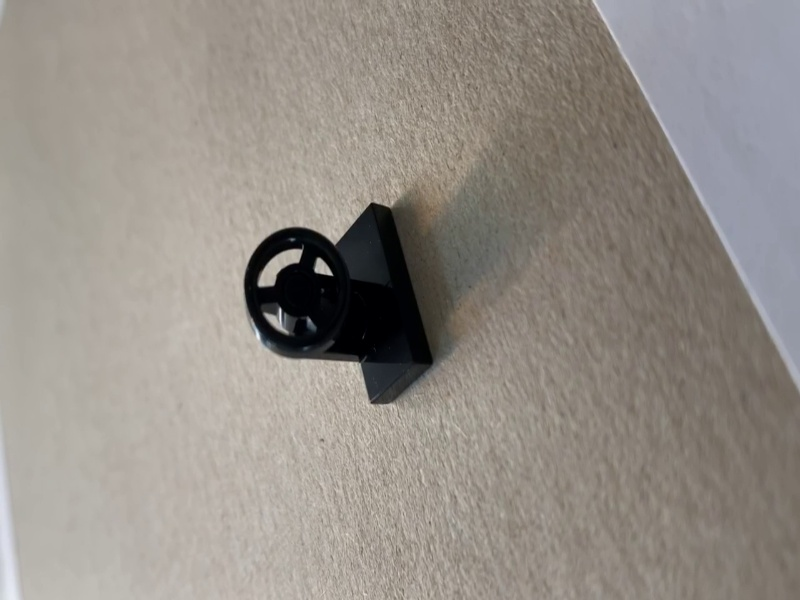steering wheel: (243, 199, 436, 408)
